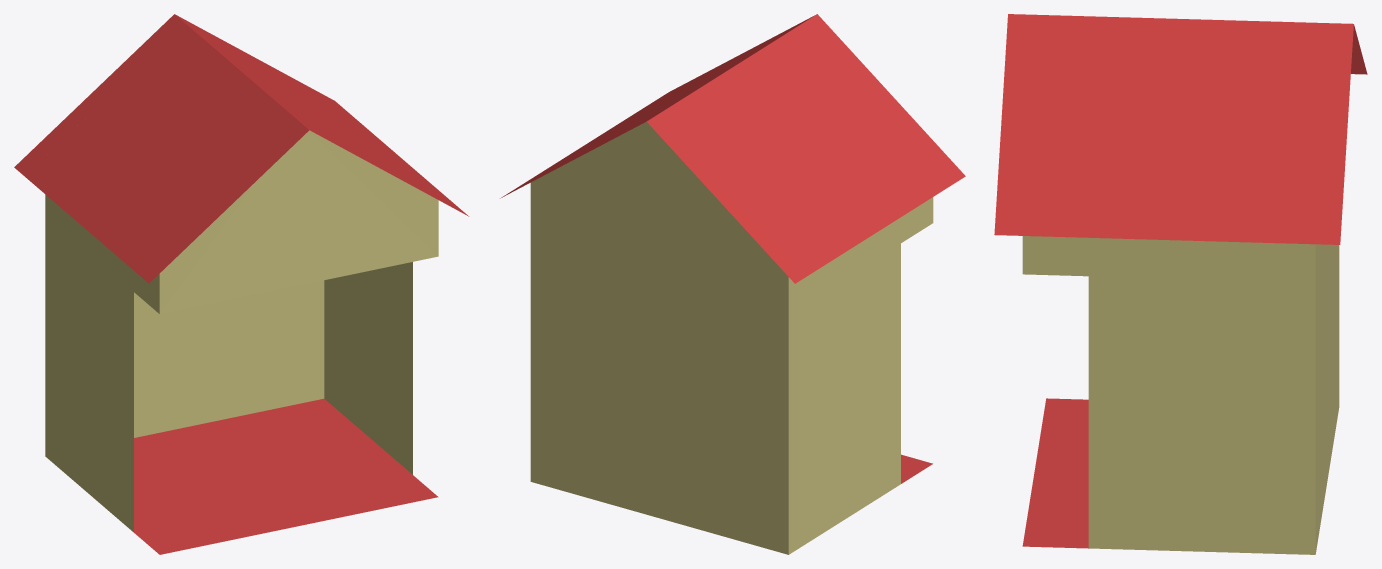
3 renders of one model, left to right at view 1: azimuth 30°, elevation 25°; view 2: azimuth 150°, elevation 25°; view 3: azimuth 270°, elevation 25°, orthographic. The views are drawn at different scales.
Parts seen in each view (by area): view 1: group_5, group_3, group_6, group_4; view 2: group_5, group_3, group_4; view 3: group_5, group_3, group_6, group_4.
Boxes of the visible parts, bbox=[...] form: group_5: bbox=[45, 130, 438, 532]; group_3: bbox=[45, 14, 467, 268]; group_6: bbox=[134, 398, 438, 554]; group_4: bbox=[14, 14, 468, 283]; group_5: bbox=[530, 122, 933, 554]; group_3: bbox=[500, 15, 932, 254]; group_4: bbox=[614, 14, 965, 283]; group_5: bbox=[1022, 236, 1339, 554]; group_3: bbox=[995, 14, 1367, 244]; group_6: bbox=[1022, 398, 1088, 548]; group_4: bbox=[994, 15, 1353, 237].
Size of the model in its own units: 12.1 by 10.58 by 14.32.
